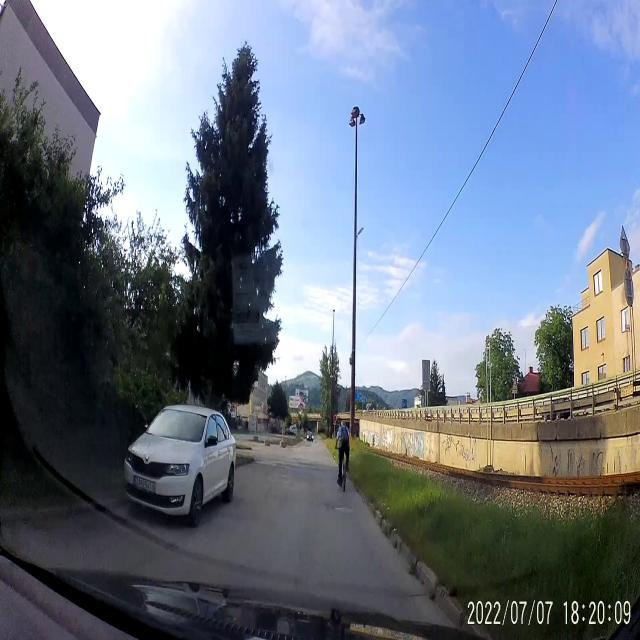Pothole: (323, 497, 353, 517)
